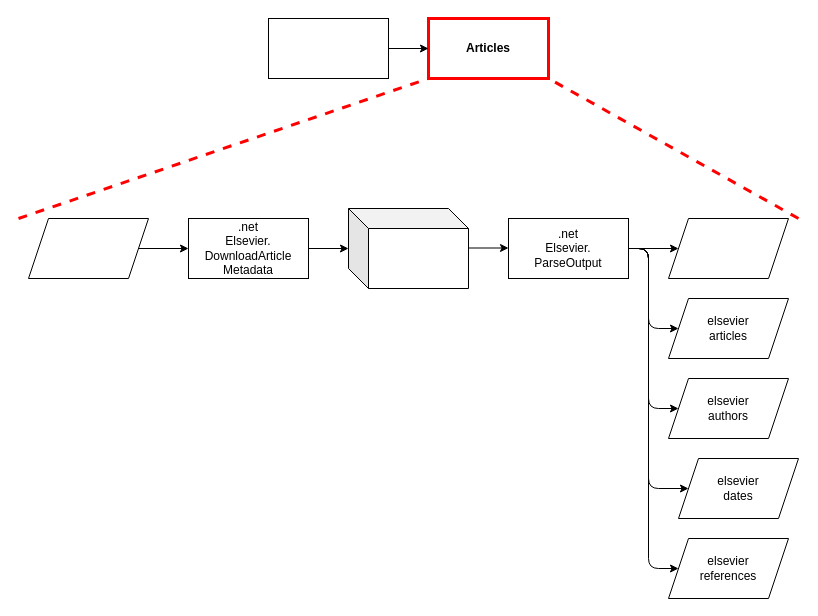
The diagram is 818 pixels wide and 616 high, and some of its shapes have lost their labels. Here are the shapes that lost their labels. From the top down, the centre of each, then its label:
(328,48): Journals
(88,248): elsevier article_metadata_ input
(408,248): Storage (json)
(728,248): elsevier affiliations
